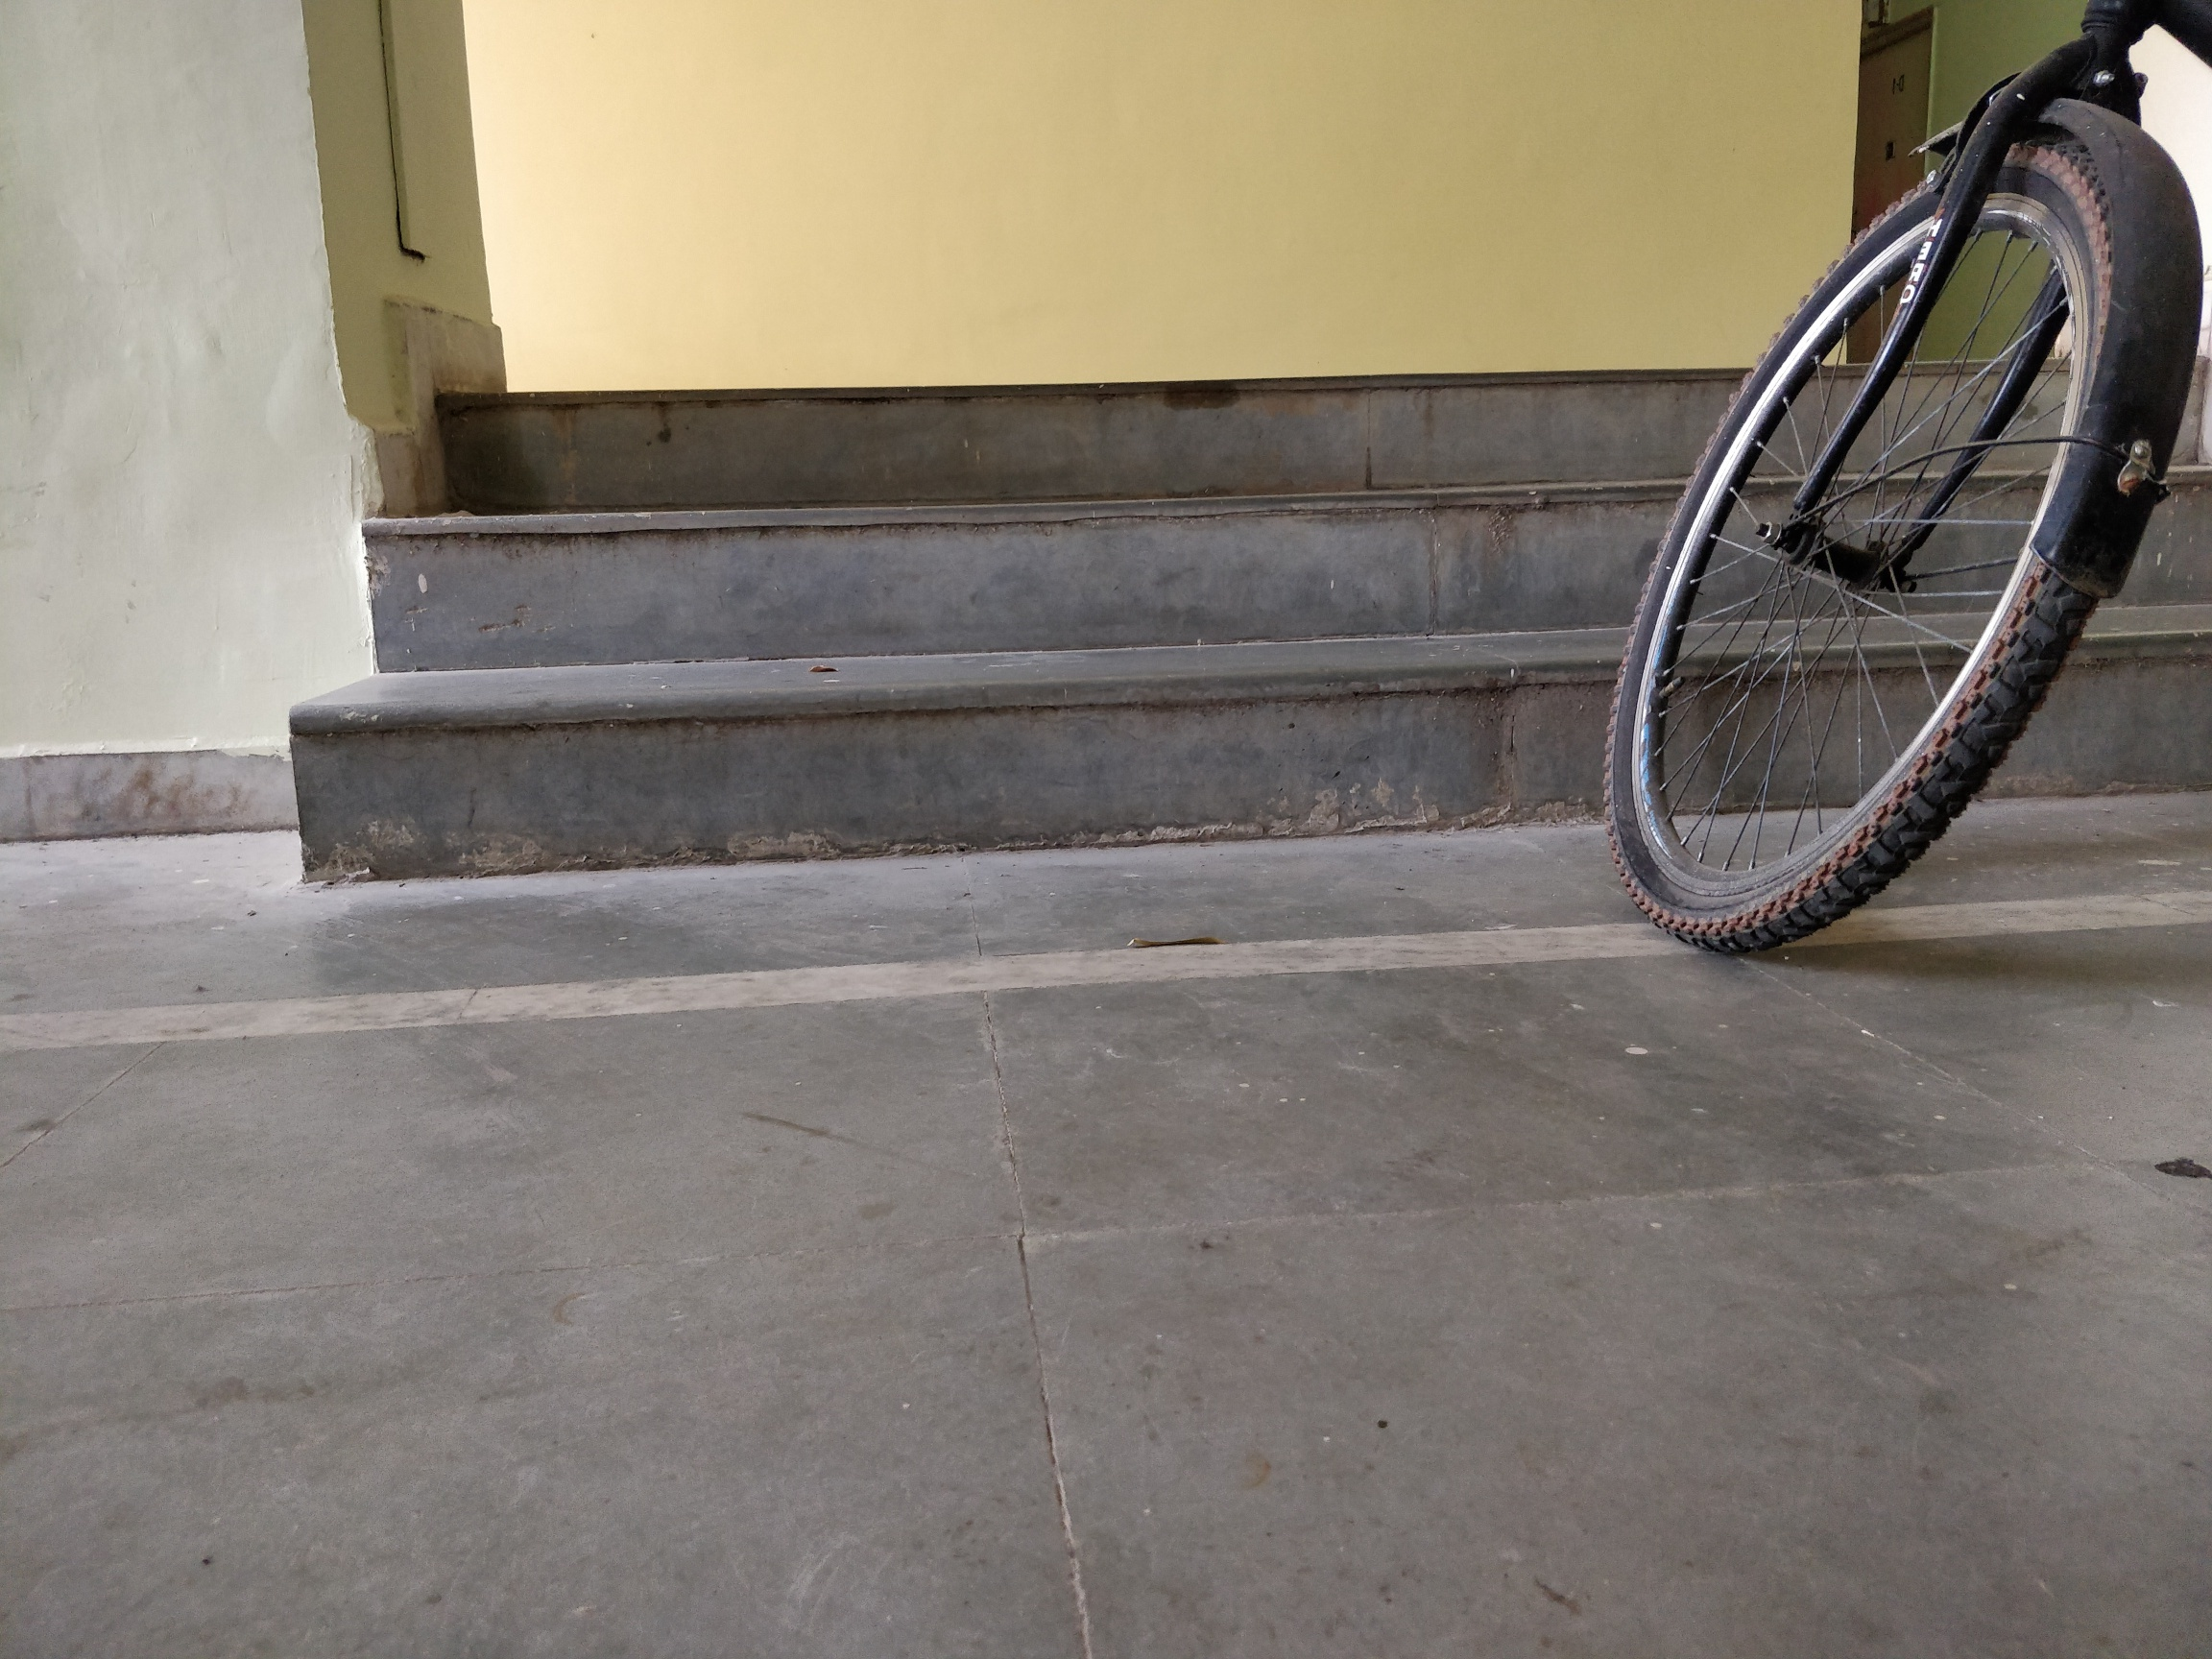stairs_up: (315, 362, 2212, 836)
